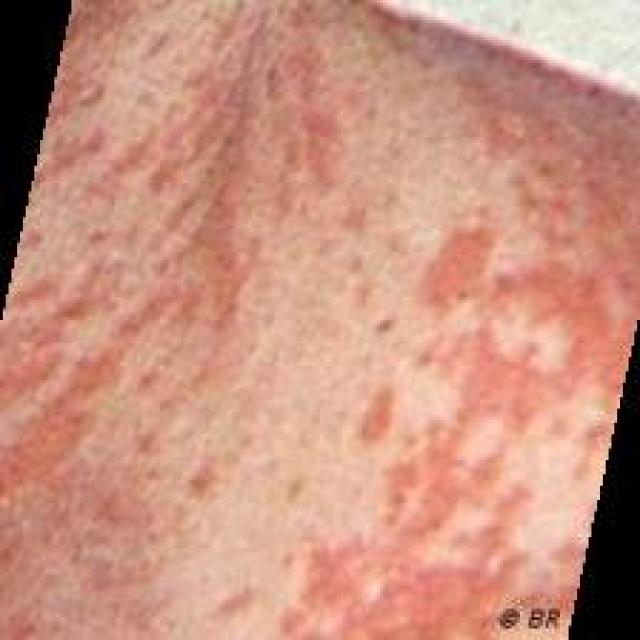others: (49, 0, 610, 640)
